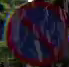No Stopping: (5, 0, 68, 65)
